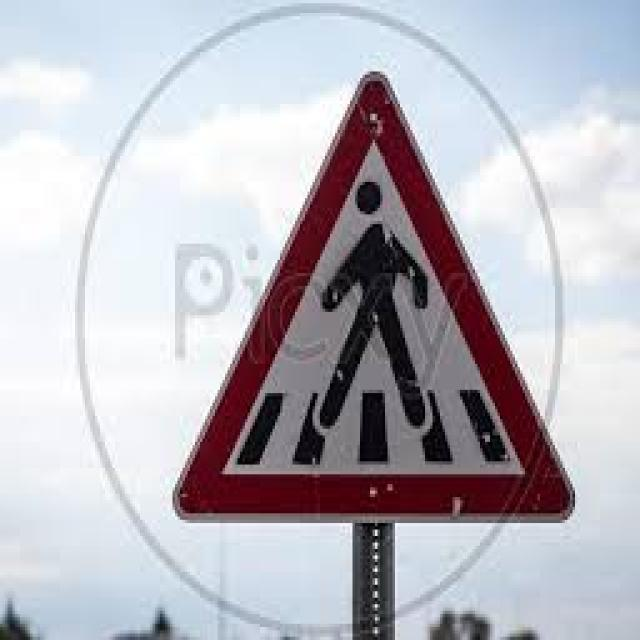Attention-Passage-Pieton: (169, 69, 579, 532)
